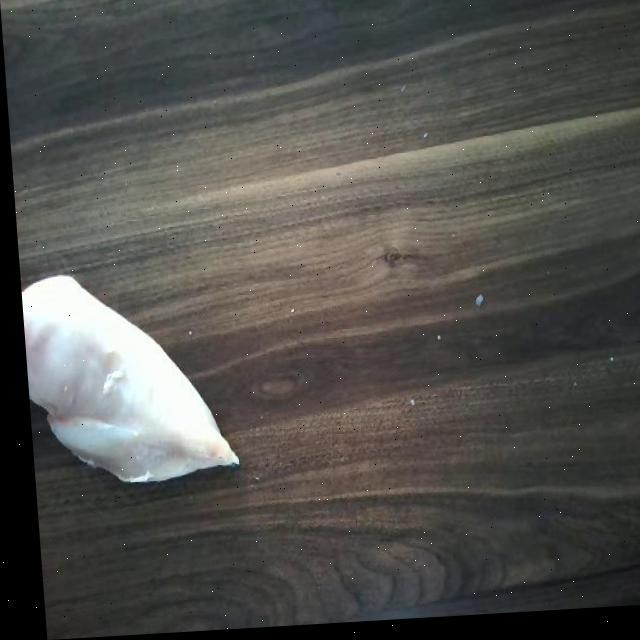breast: (17, 270, 240, 502)
